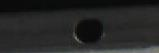holes: (73, 16, 105, 47)
